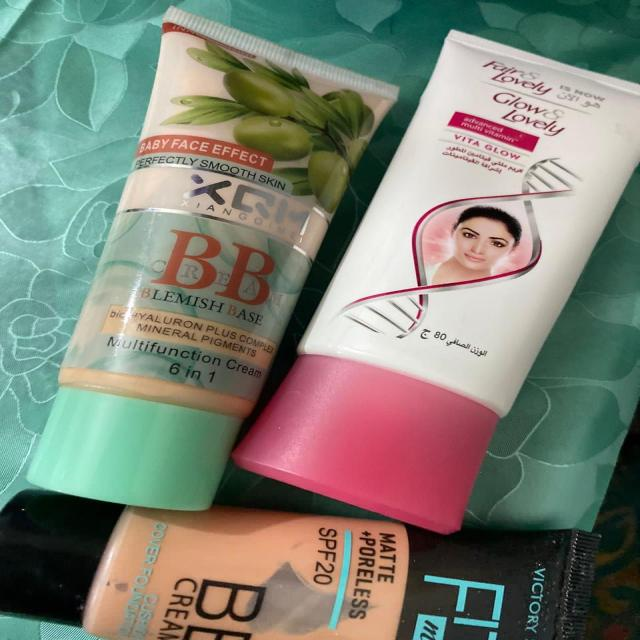bb cream: (22, 14, 390, 502), (5, 477, 603, 640)
lotion: (330, 6, 640, 448)
